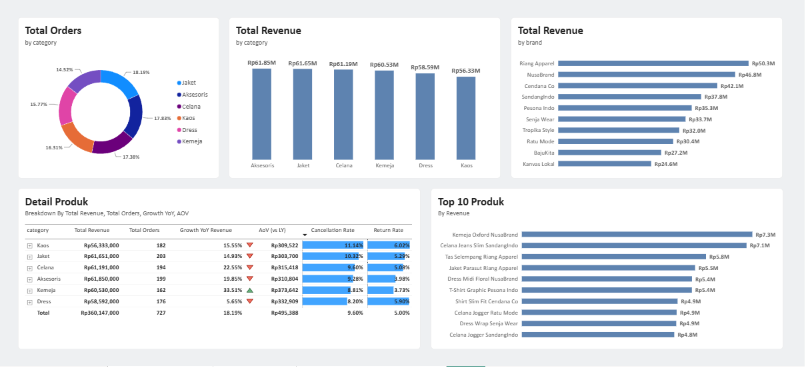

What the dashboard file says about the page in this screenshot:
{"tool":"powerbi","page":{"name":"Product","canvas":[1920,1080],"ordinal":1},"visuals":[{"type":"shape","box":[0,0,1920,127],"z":0},{"type":"textbox","box":[40,40,773.3,70],"z":1000},{"type":"pivotTable","title":"Detail Produk","fields":{"Rows":["products.category","products.name"],"Values":["_Measure.Total Revenue","_Measure.Total Orders","_Measure.Growth YoY Revenue","_Measure.Average Order Value","_Measure.Cancellation Rate","_Measure.Return Rate"]},"box":[43.3,655.1,960,384],"z":2000},{"type":"donutChart","fields":{"Category":["products.category"],"Y":["_Measure.Total Orders"]},"box":[43.3,247.1,480,384],"z":3000},{"type":"barChart","title":"Top 10 Produk","fields":{"Category":["products.name"],"Y":["_Measure.Total Revenue"]},"box":[1027.3,655.1,840,384],"z":4000},{"type":"columnChart","fields":{"Category":["products.category"],"Y":["_Measure.Total Revenue"]},"box":[547.3,247.1,648,384],"z":5000},{"type":"clusteredBarChart","fields":{"Category":["products.brand"],"Y":["_Measure.Total Revenue"]},"box":[1219.3,247.1,648,384],"z":6000},{"type":"slicer","fields":{"Values":["date_table.year Hierarchy.year"]},"box":[1655.8,31,241,78.7],"z":7000},{"type":"group","id":"g1","title":"Group 1","box":[1036.4,31.2,600,84],"z":8000},{"type":"pageNavigator","box":[1036.4,31.2,600,72],"z":8500,"group":"g1"},{"type":"pageNavigator","box":[1036.4,103.2,600,12],"z":9000,"group":"g1"}]}

Visuals, with their boxes on the page's 1920x1080 design canvas (x1, y1, x2, y2). These are canvas units, not pixel positions in the 805x367 screenshot, which may show the page scaled, cropped or inside an application window:
shape: rect(0, 0, 1920, 127)
textbox: rect(40, 40, 813, 110)
"Detail Produk" pivotTable: rect(43, 655, 1003, 1039)
donutChart - products.category x _Measure.Total Orders: rect(43, 247, 523, 631)
"Top 10 Produk" barChart: rect(1027, 655, 1867, 1039)
columnChart - products.category x _Measure.Total Revenue: rect(547, 247, 1195, 631)
clusteredBarChart - products.brand x _Measure.Total Revenue: rect(1219, 247, 1867, 631)
slicer - date_table.year Hierarchy.year: rect(1656, 31, 1897, 110)
"Group 1" group: rect(1036, 31, 1636, 115)
pageNavigator: rect(1036, 31, 1636, 103)
pageNavigator: rect(1036, 103, 1636, 115)
